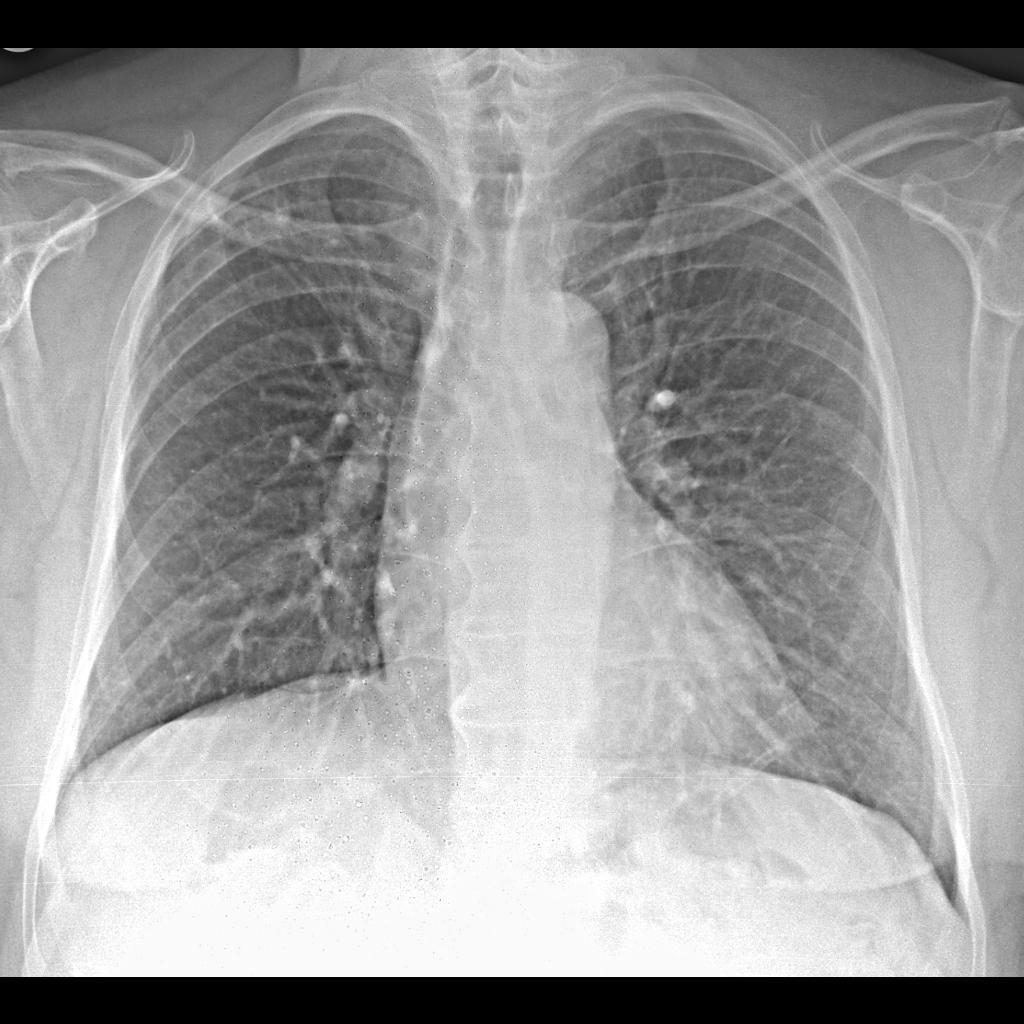Nodule: (258, 186, 296, 234)
